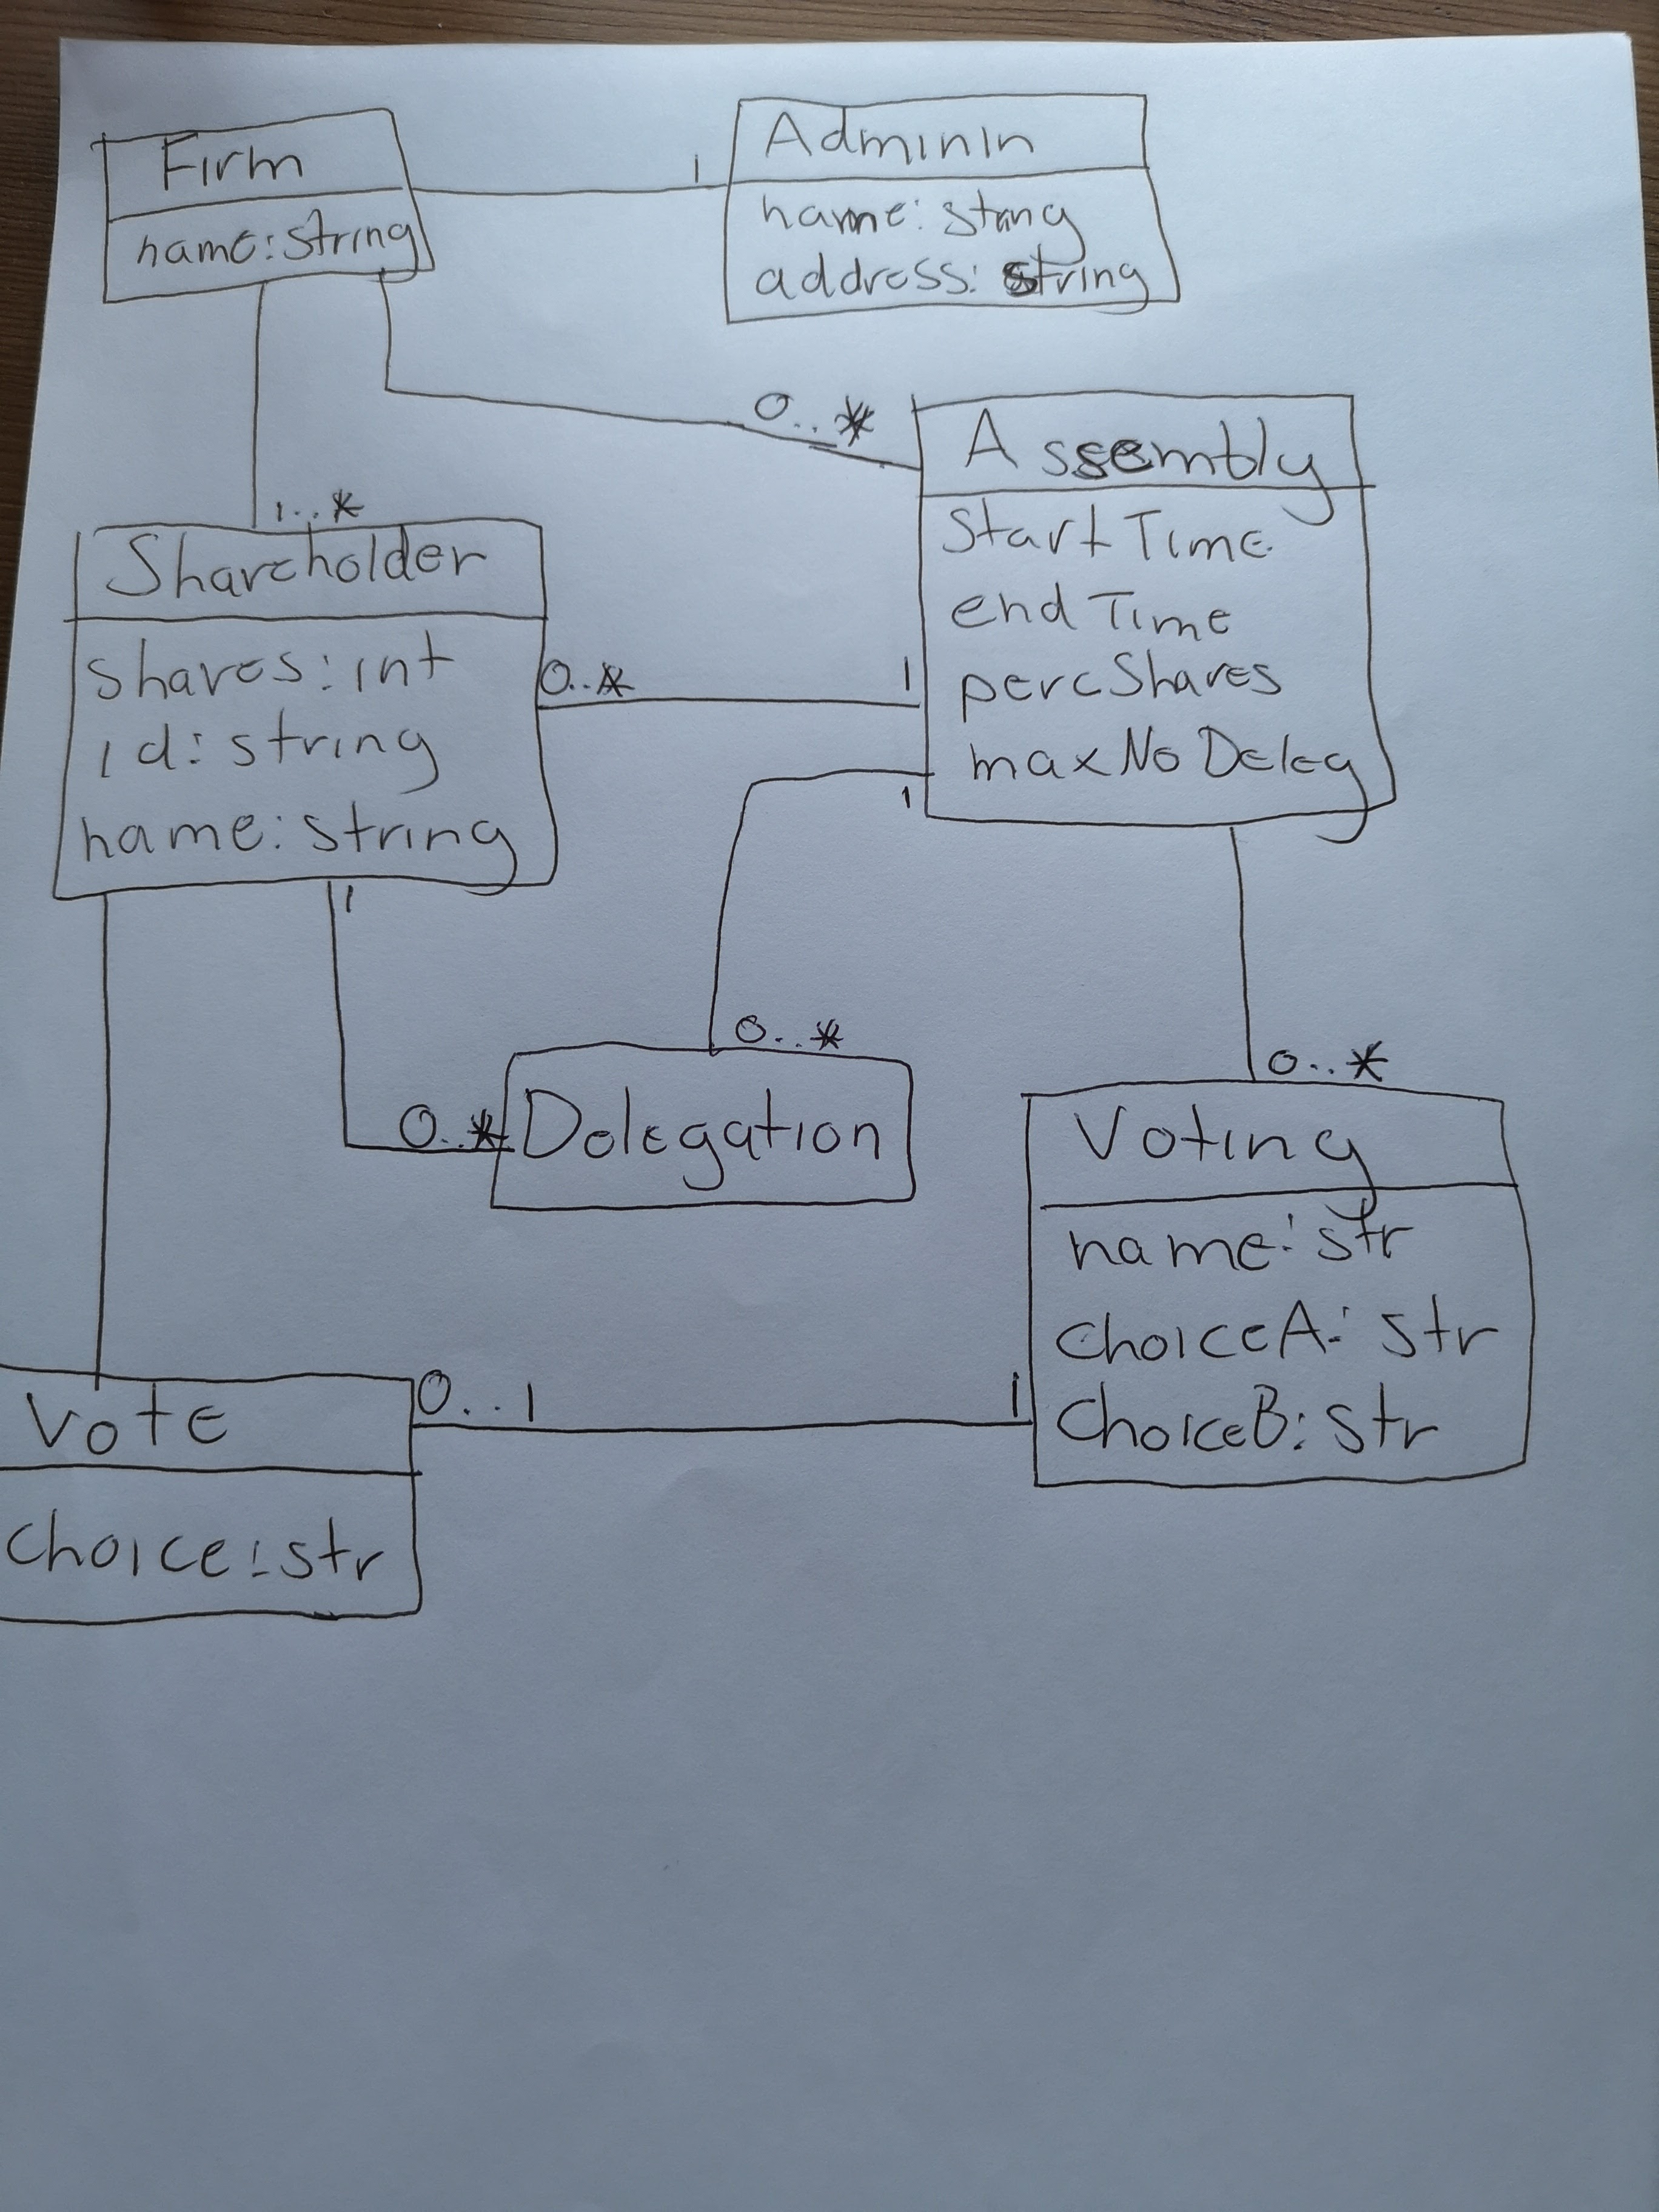association: (370, 260, 960, 480), (699, 758, 947, 1096), (280, 866, 523, 1167), (392, 1358, 1043, 1441), (1215, 819, 1397, 1081), (517, 640, 941, 732), (82, 883, 140, 1384), (395, 155, 756, 203), (229, 276, 297, 528)
class attributes: (903, 385, 1410, 835), (1017, 1068, 1528, 1508), (41, 506, 577, 896), (1, 1355, 437, 1636), (717, 78, 1199, 324), (92, 98, 443, 305)
simple class: (481, 1036, 931, 1218)
